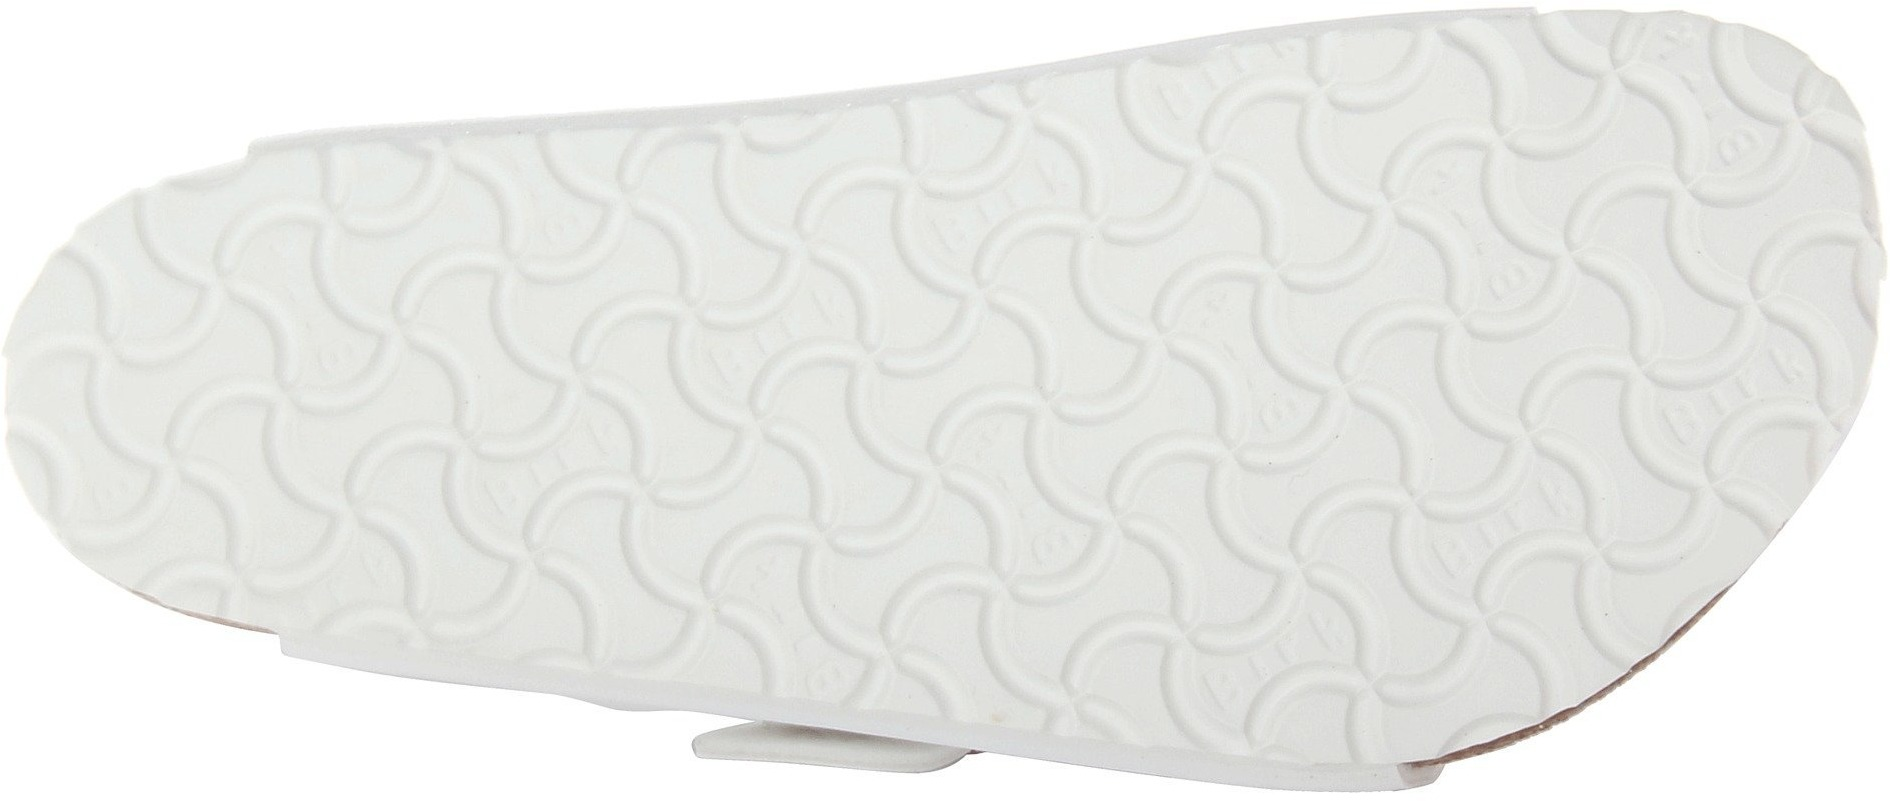bowtie: (1273, 57, 1763, 555), (190, 190, 695, 602), (708, 163, 1072, 494), (739, 497, 994, 696), (1032, 507, 1249, 711), (1075, 108, 1291, 308), (1325, 558, 1532, 759)
star: (333, 267, 480, 390), (1458, 373, 1592, 488), (911, 243, 1045, 351), (749, 465, 864, 585), (1127, 582, 1242, 699), (1345, 152, 1452, 263)
text: (463, 435, 614, 538), (1460, 219, 1545, 307), (915, 185, 1034, 243), (749, 276, 856, 337), (1656, 385, 1750, 450)
